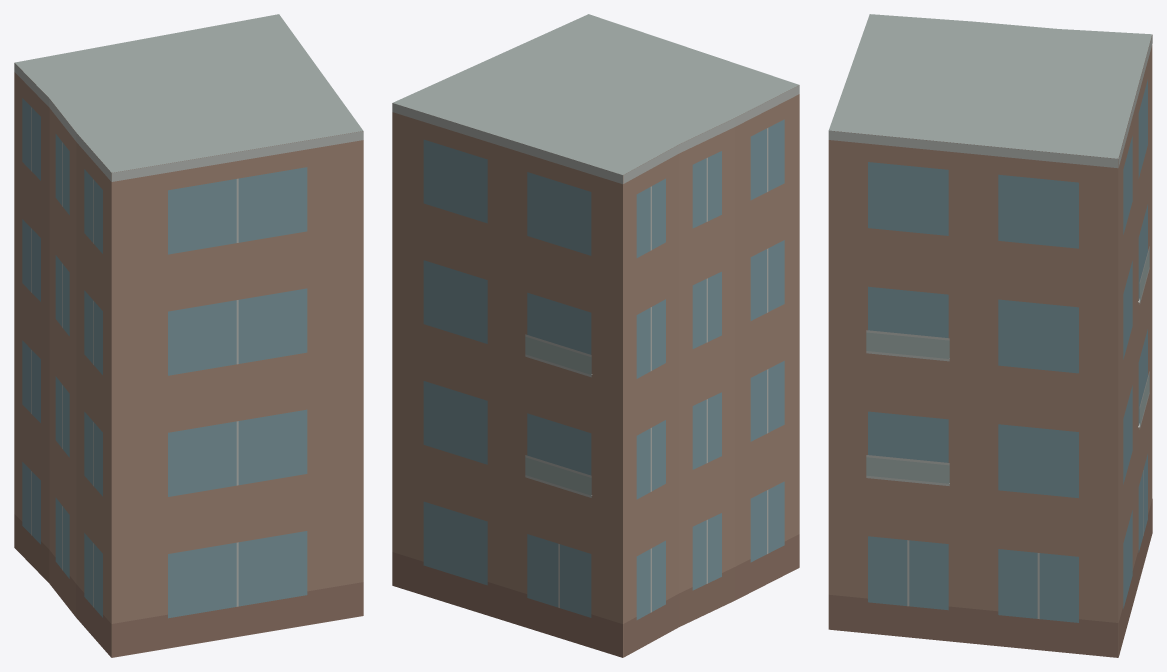
The model's file is survey-upis-32472281.glb.
The picture shows the model from 3 angles, left to right: view 1: azimuth 30°, elevation 25°; view 2: azimuth 150°, elevation 25°; view 3: azimuth 270°, elevation 25°; orthographic projection. The views are drawn at different scales.
Parts seen in each view (by area): view 1: survey-upis-32472281.tmp; view 2: survey-upis-32472281.tmp; view 3: survey-upis-32472281.tmp.
Part boxes in pixels (x1=…): survey-upis-32472281.tmp: x1=14, y1=14, x2=363, y2=657; survey-upis-32472281.tmp: x1=392, y1=14, x2=799, y2=657; survey-upis-32472281.tmp: x1=828, y1=14, x2=1152, y2=657.
Bounding box in the file's own units: 8.04 × 12.9 × 7.59.
